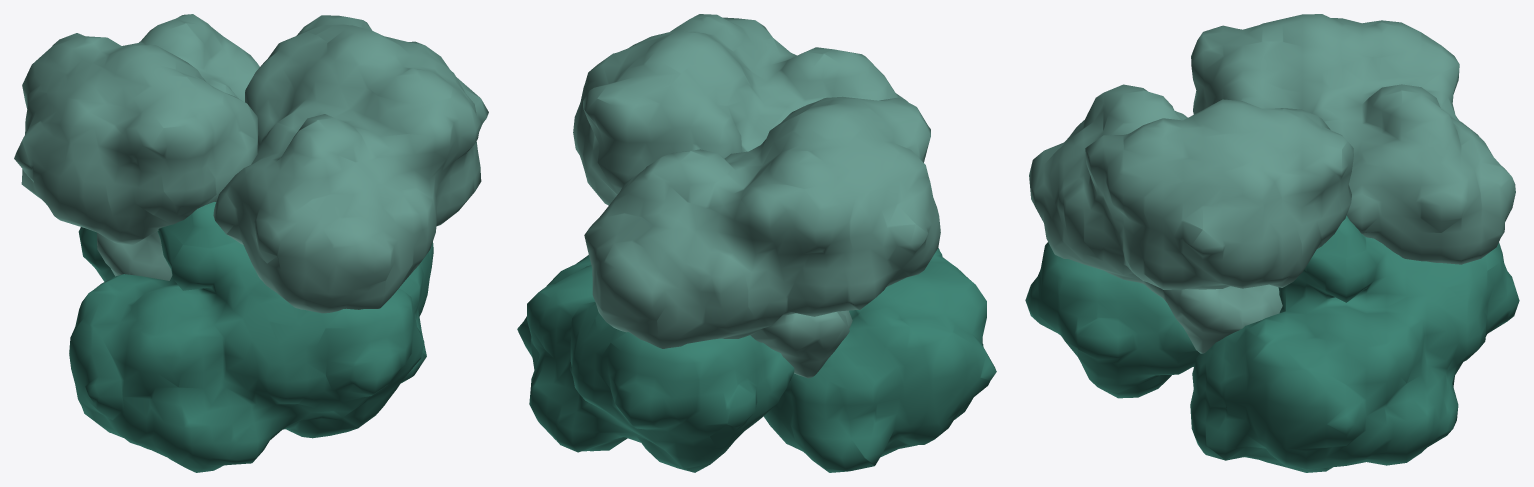
The model's file is tetramer3GPD.fbx.
3 renders of one model, left to right at view 1: azimuth 30°, elevation 25°; view 2: azimuth 150°, elevation 25°; view 3: azimuth 270°, elevation 25°, orthographic. The views are drawn at different scales.
Parts seen in each view (by area): view 1: CoarseMS_3GPD.2, CoarseMS_3GPD_Selection0, CoarseMS_3GPD, CoarseMS_3GPD_Selection0.2; view 2: CoarseMS_3GPD, CoarseMS_3GPD_Selection0.2, CoarseMS_3GPD.2, CoarseMS_3GPD_Selection0; view 3: CoarseMS_3GPD.2, CoarseMS_3GPD_Selection0.2, CoarseMS_3GPD, CoarseMS_3GPD_Selection0.
Part boxes in pixels (x1,y1,x2,y2): CoarseMS_3GPD.2: (213,15,488,313); CoarseMS_3GPD_Selection0: (69,202,424,472); CoarseMS_3GPD: (14,14,259,280); CoarseMS_3GPD_Selection0.2: (78,227,433,383); CoarseMS_3GPD: (584,96,940,378); CoarseMS_3GPD_Selection0.2: (517,255,794,472); CoarseMS_3GPD.2: (573,14,908,205); CoarseMS_3GPD_Selection0: (764,248,996,472); CoarseMS_3GPD.2: (1029,84,1353,353); CoarseMS_3GPD_Selection0.2: (1190,215,1519,472); CoarseMS_3GPD: (1191,14,1515,264); CoarseMS_3GPD_Selection0: (1025,242,1199,398).
Bounding box in the file's own units: 88.32 × 77.35 × 95.87.
